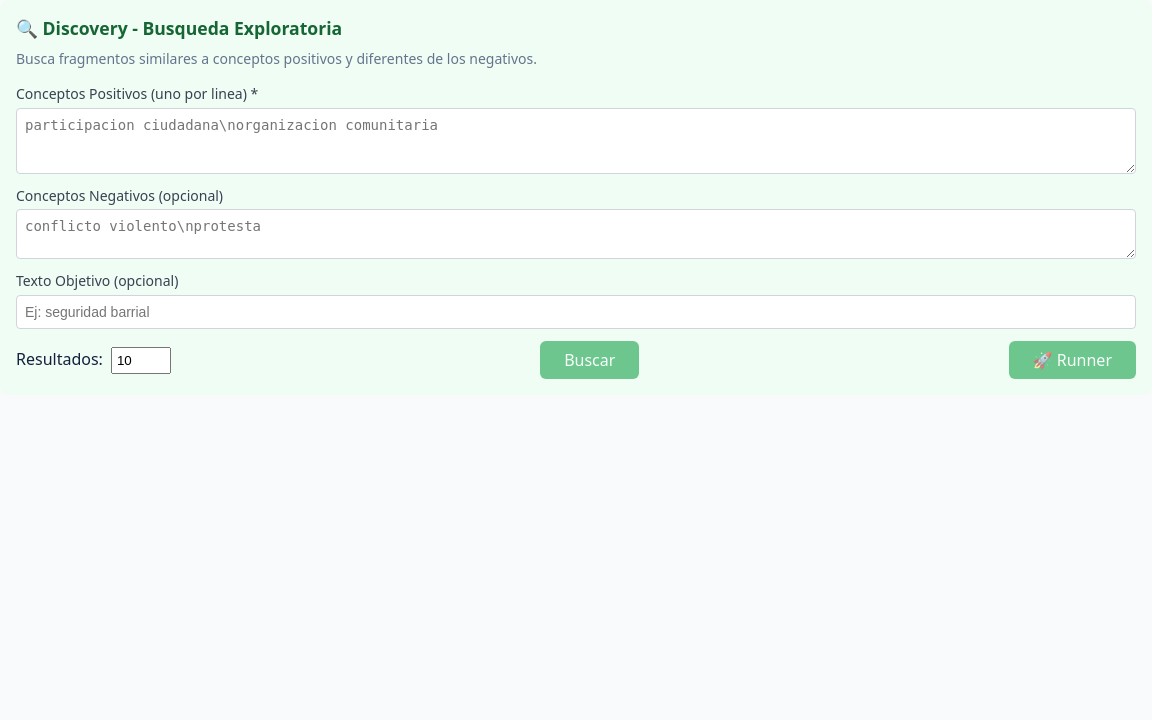
DiscoveryPanel › shows AI analysis button after search results
Type "test" into the text box labelled "Conceptos Positivos (uno por linea) *". click: {"x": 576, "y": 141}
box: [16,108,1136,174]
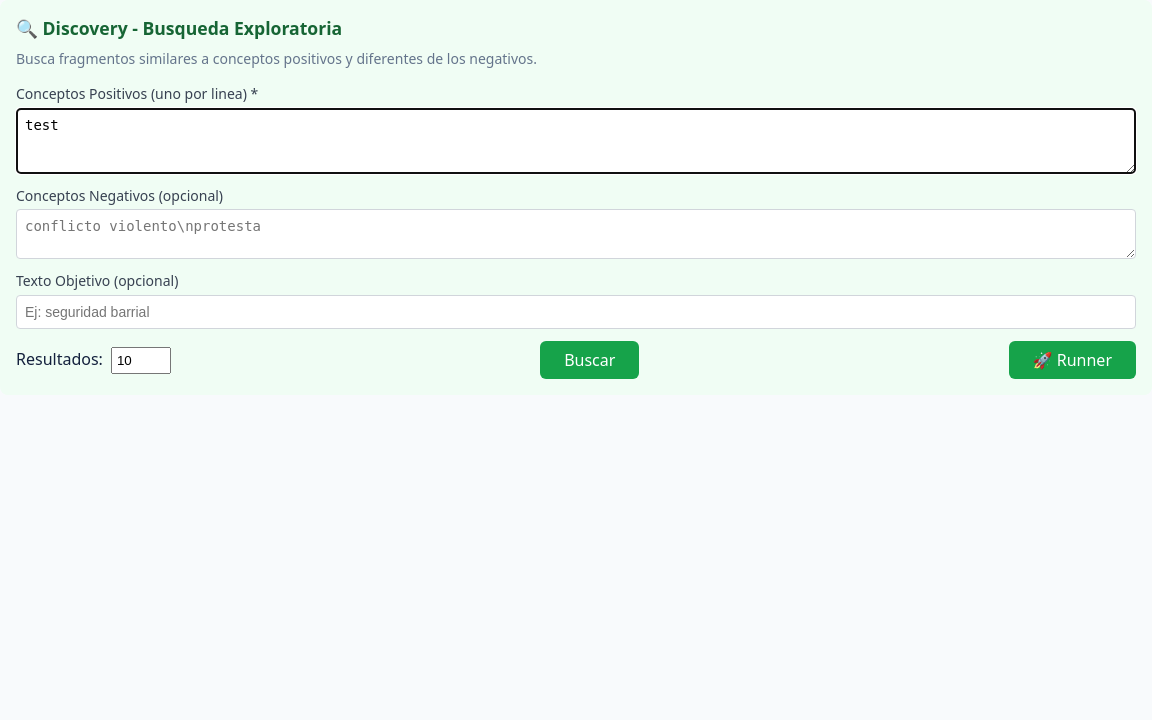
Click the button "Buscar". click: {"x": 590, "y": 360}
box: [540,341,639,379]
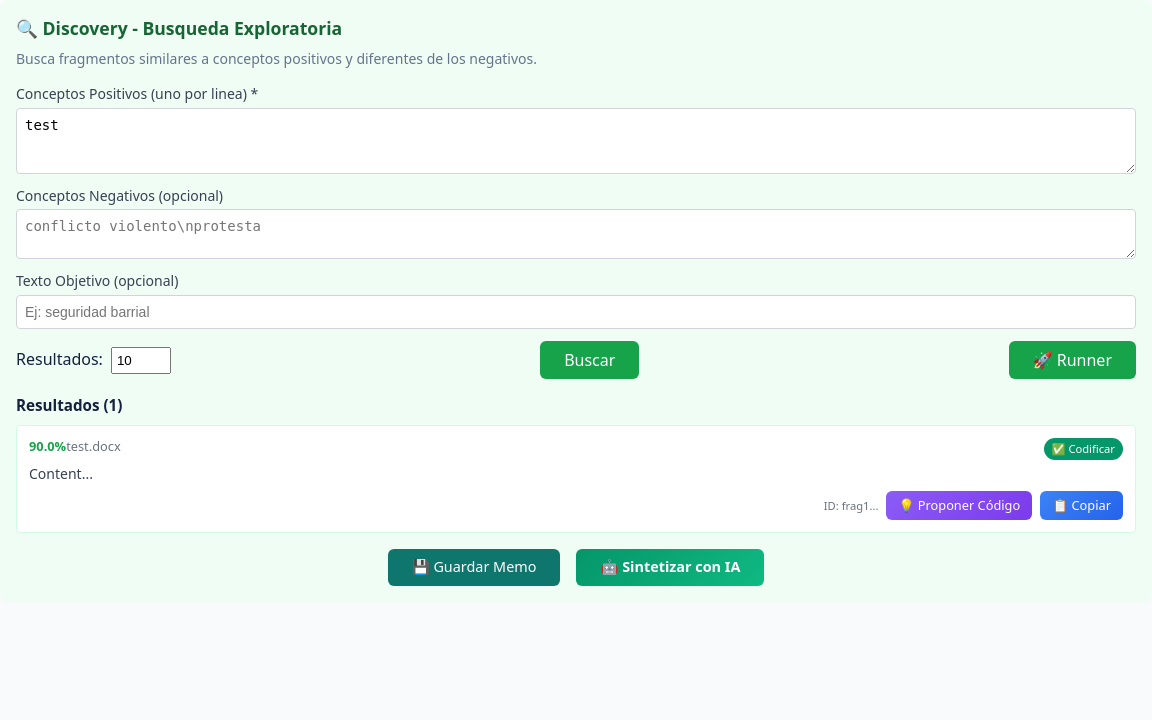
Check: the button "🤖 Sintetizar con IA" is shown, box [576,549,764,586]
